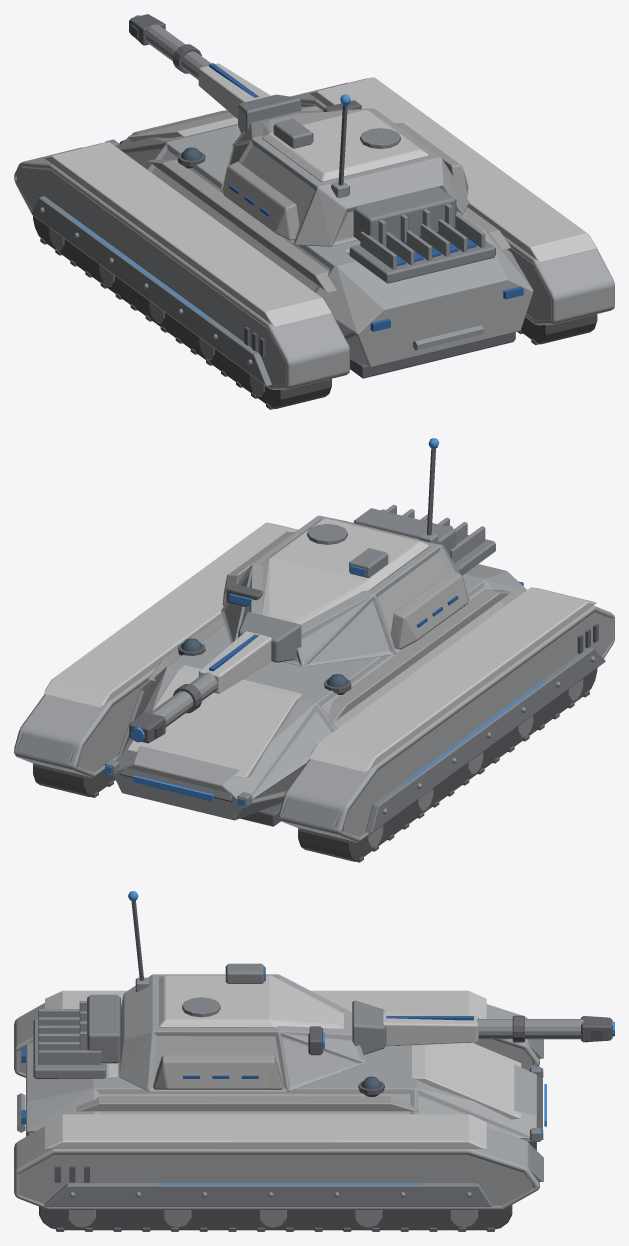
Rendered from lattice_strider.glb.
3 views of the same model, one above another, from view 1: azimuth 30°, elevation 25°; view 2: azimuth 150°, elevation 25°; view 3: azimuth 270°, elevation 25° (orthographic). The views are drawn at different scales.
Parts seen in each view (by area): view 1: Body, Turret; view 2: Body, Turret; view 3: Body, Turret.
Part boxes in pixels (left/top/right/bottom): Body: left=14, top=77, right=614, bottom=409; Turret: left=129, top=14, right=469, bottom=246; Body: left=14, top=504, right=614, bottom=862; Turret: left=129, top=438, right=469, bottom=743; Body: left=14, top=990, right=546, bottom=1231; Turret: left=79, top=891, right=614, bottom=1091.
Bounding box in the file's own units: 1.57 × 1.11 × 2.47.
